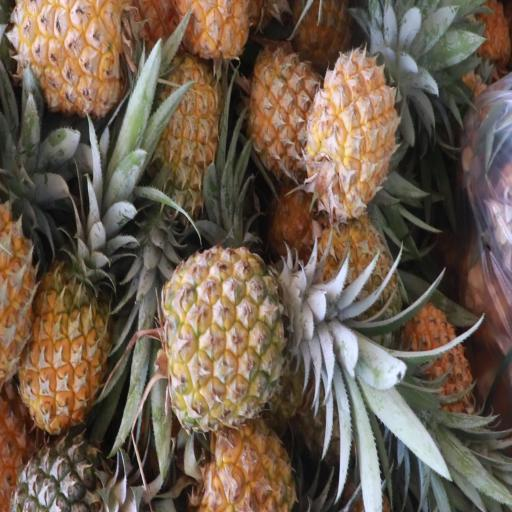------------------------------: (158, 244, 356, 435)
Pineapple - v8 v1: (20, 173, 118, 440), (302, 58, 416, 214), (185, 401, 332, 512), (146, 56, 224, 214), (246, 36, 320, 178)
